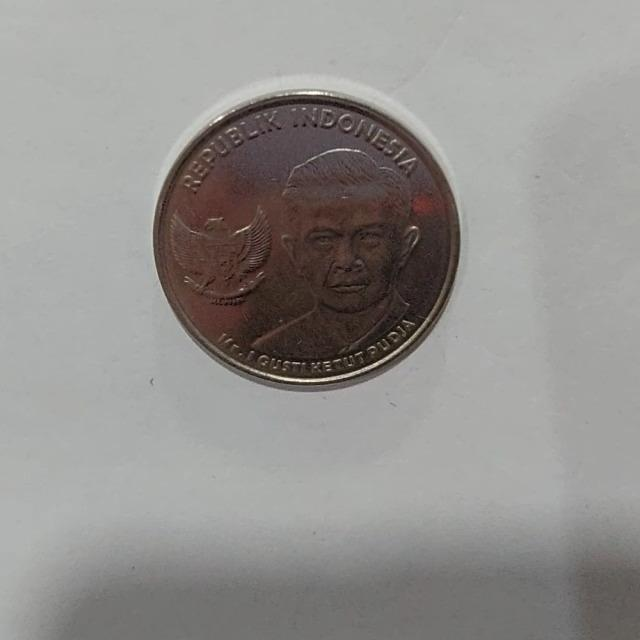Rp100: (152, 79, 462, 390), (222, 143, 426, 366)
